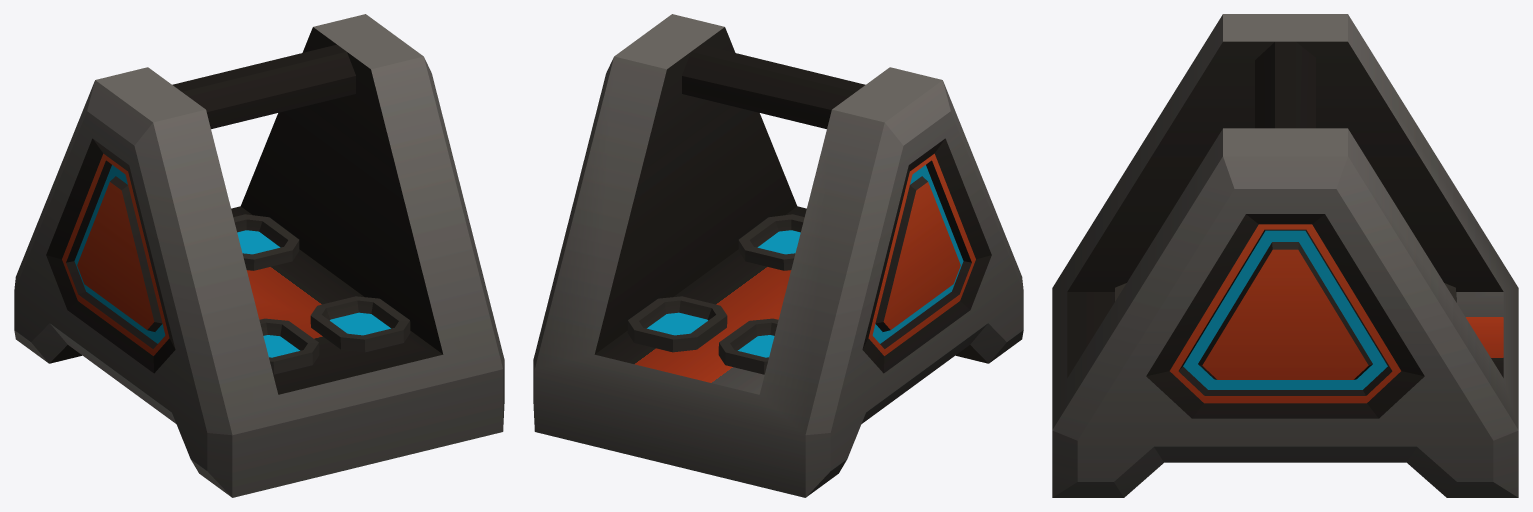
Rendered from Charging_Station_04.fbx.
The picture shows the model from 3 angles, left to right: view 1: azimuth 30°, elevation 25°; view 2: azimuth 150°, elevation 25°; view 3: azimuth 270°, elevation 25°; orthographic projection. The views are drawn at different scales.
Visible parts, largest first — view 1: Charging_Station_04; view 2: Charging_Station_04; view 3: Charging_Station_04.
Part boxes in pixels (bbox=[...]): Charging_Station_04: bbox=[14, 14, 504, 497]; Charging_Station_04: bbox=[533, 14, 1023, 497]; Charging_Station_04: bbox=[1052, 14, 1518, 497].
Size of the model in its own units: 22.41 by 22.86 by 28.28.
